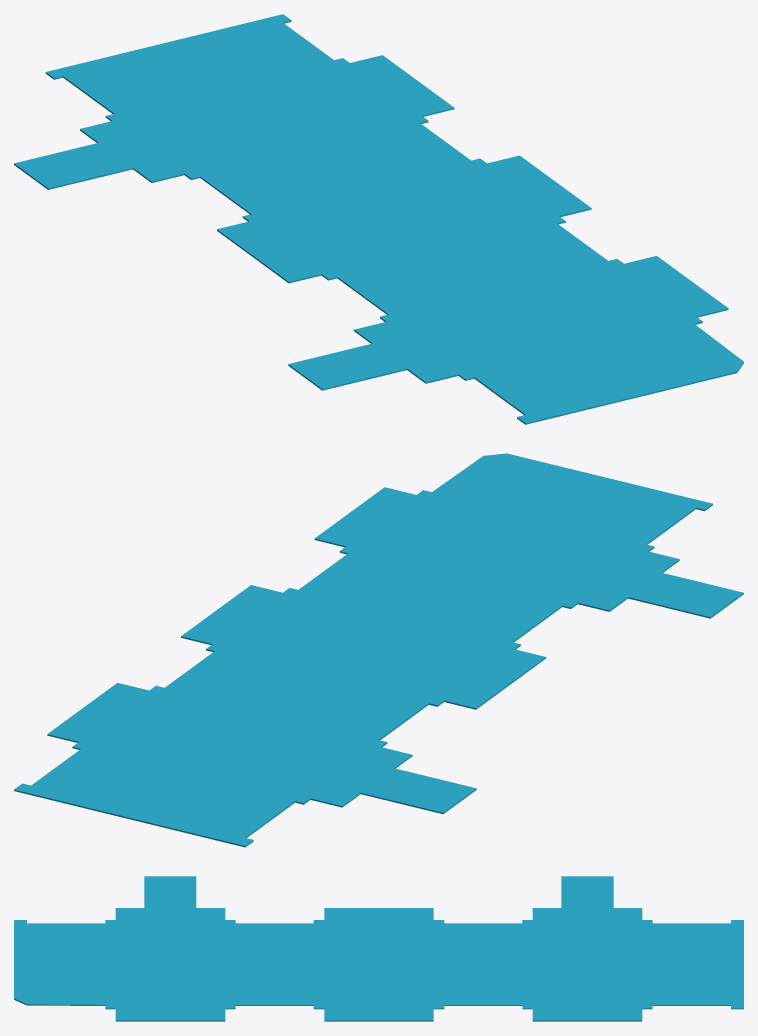
Rendered from Floor.fbx.
The picture shows the model from 3 angles, top to bottom: view 1: azimuth 30°, elevation 25°; view 2: azimuth 150°, elevation 25°; view 3: azimuth 270°, elevation 25°; orthographic projection. The views are drawn at different scales.
Visible parts, largest first — view 1: Metal; view 2: Metal; view 3: Metal.
Boxes of the visible parts, bbox=[...] form: Metal: bbox=[14, 14, 743, 424]; Metal: bbox=[14, 453, 743, 847]; Metal: bbox=[14, 876, 743, 1021].
Size of the model in its own units: 13.05 by 0.05 by 28.
